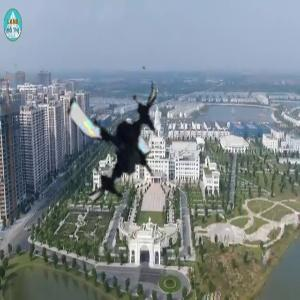drone: (45, 64, 184, 203)
